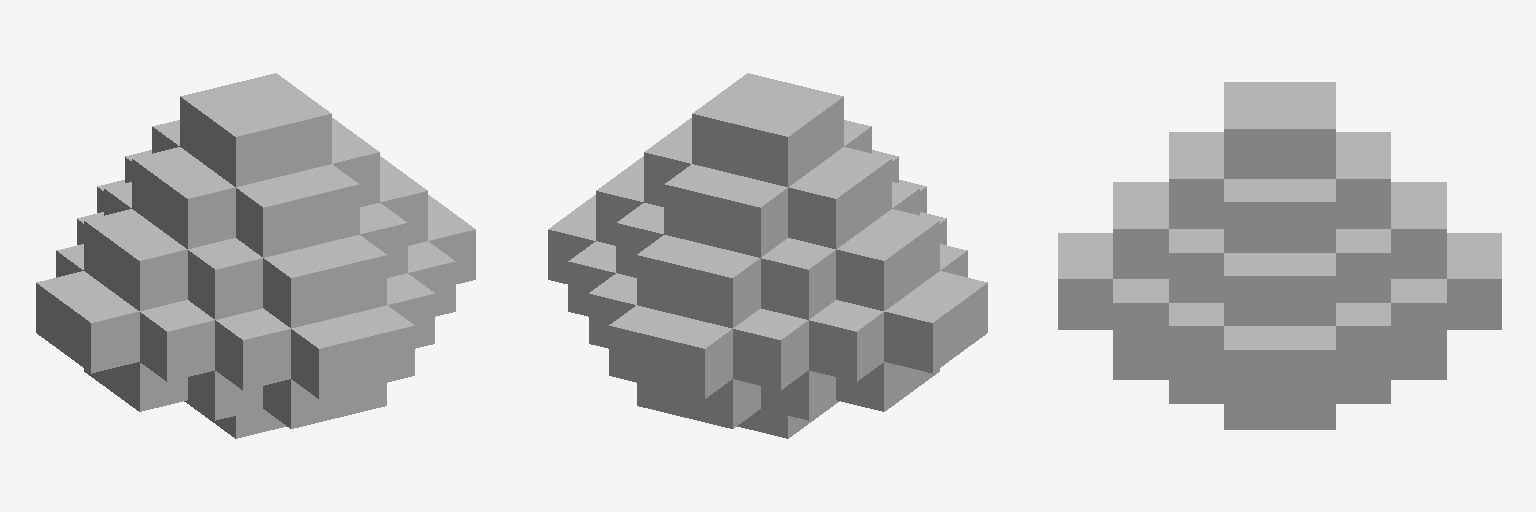
File: Ball.obj
The picture shows the model from 3 angles: view 1: azimuth 30°, elevation 25°; view 2: azimuth 150°, elevation 25°; view 3: azimuth 270°, elevation 25°; orthographic projection.
Parts seen in each view (by area): view 1: object 1; view 2: object 1; view 3: object 1.
Boxes of the visible parts, box(x1,y1,x2,y2) form: object 1: box(36, 73, 475, 438); object 1: box(548, 73, 987, 438); object 1: box(1058, 82, 1501, 429).
Bounding box in the file's own units: 0.8 × 0.6 × 0.8.